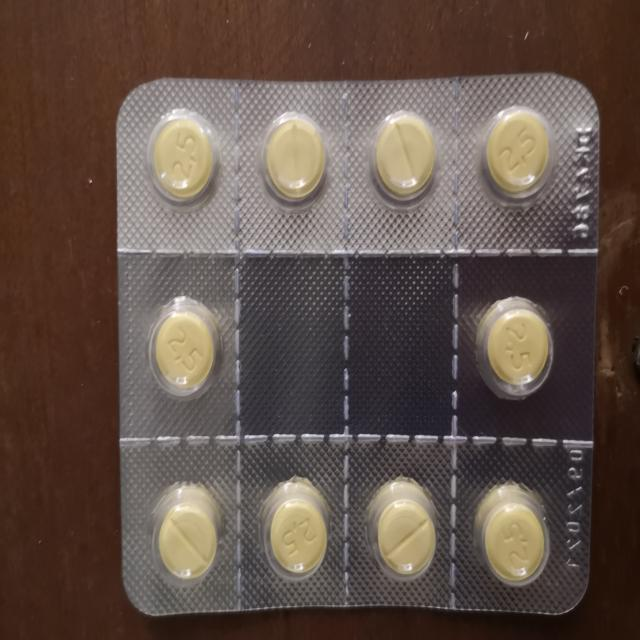Pill: (140, 284, 224, 413), (248, 471, 339, 589), (140, 486, 237, 596), (245, 101, 340, 209), (363, 473, 443, 598), (361, 99, 445, 215), (472, 99, 555, 215), (471, 479, 553, 594), (474, 288, 552, 407), (142, 101, 223, 213)
